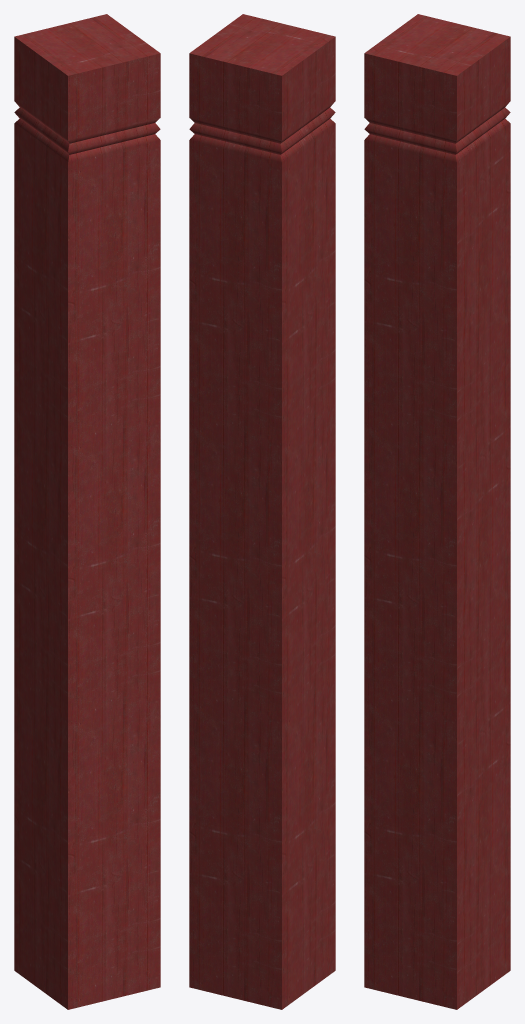
File: SM_M_Handrail_4.fbx
The picture shows the model from 3 angles, left to right: view 1: azimuth 30°, elevation 25°; view 2: azimuth 150°, elevation 25°; view 3: azimuth 330°, elevation 25°; orthographic projection.
Parts seen in each view (by area): view 1: SM_M_Handrail_4; view 2: SM_M_Handrail_4; view 3: SM_M_Handrail_4.
Boxes of the visible parts, x1=… form: SM_M_Handrail_4: x1=14, y1=14, x2=160, y2=1009; SM_M_Handrail_4: x1=189, y1=14, x2=335, y2=1009; SM_M_Handrail_4: x1=364, y1=14, x2=510, y2=1009.
Size of the model in its own units: 13.91 by 13.98 by 134.
1 material, 1 textured.
